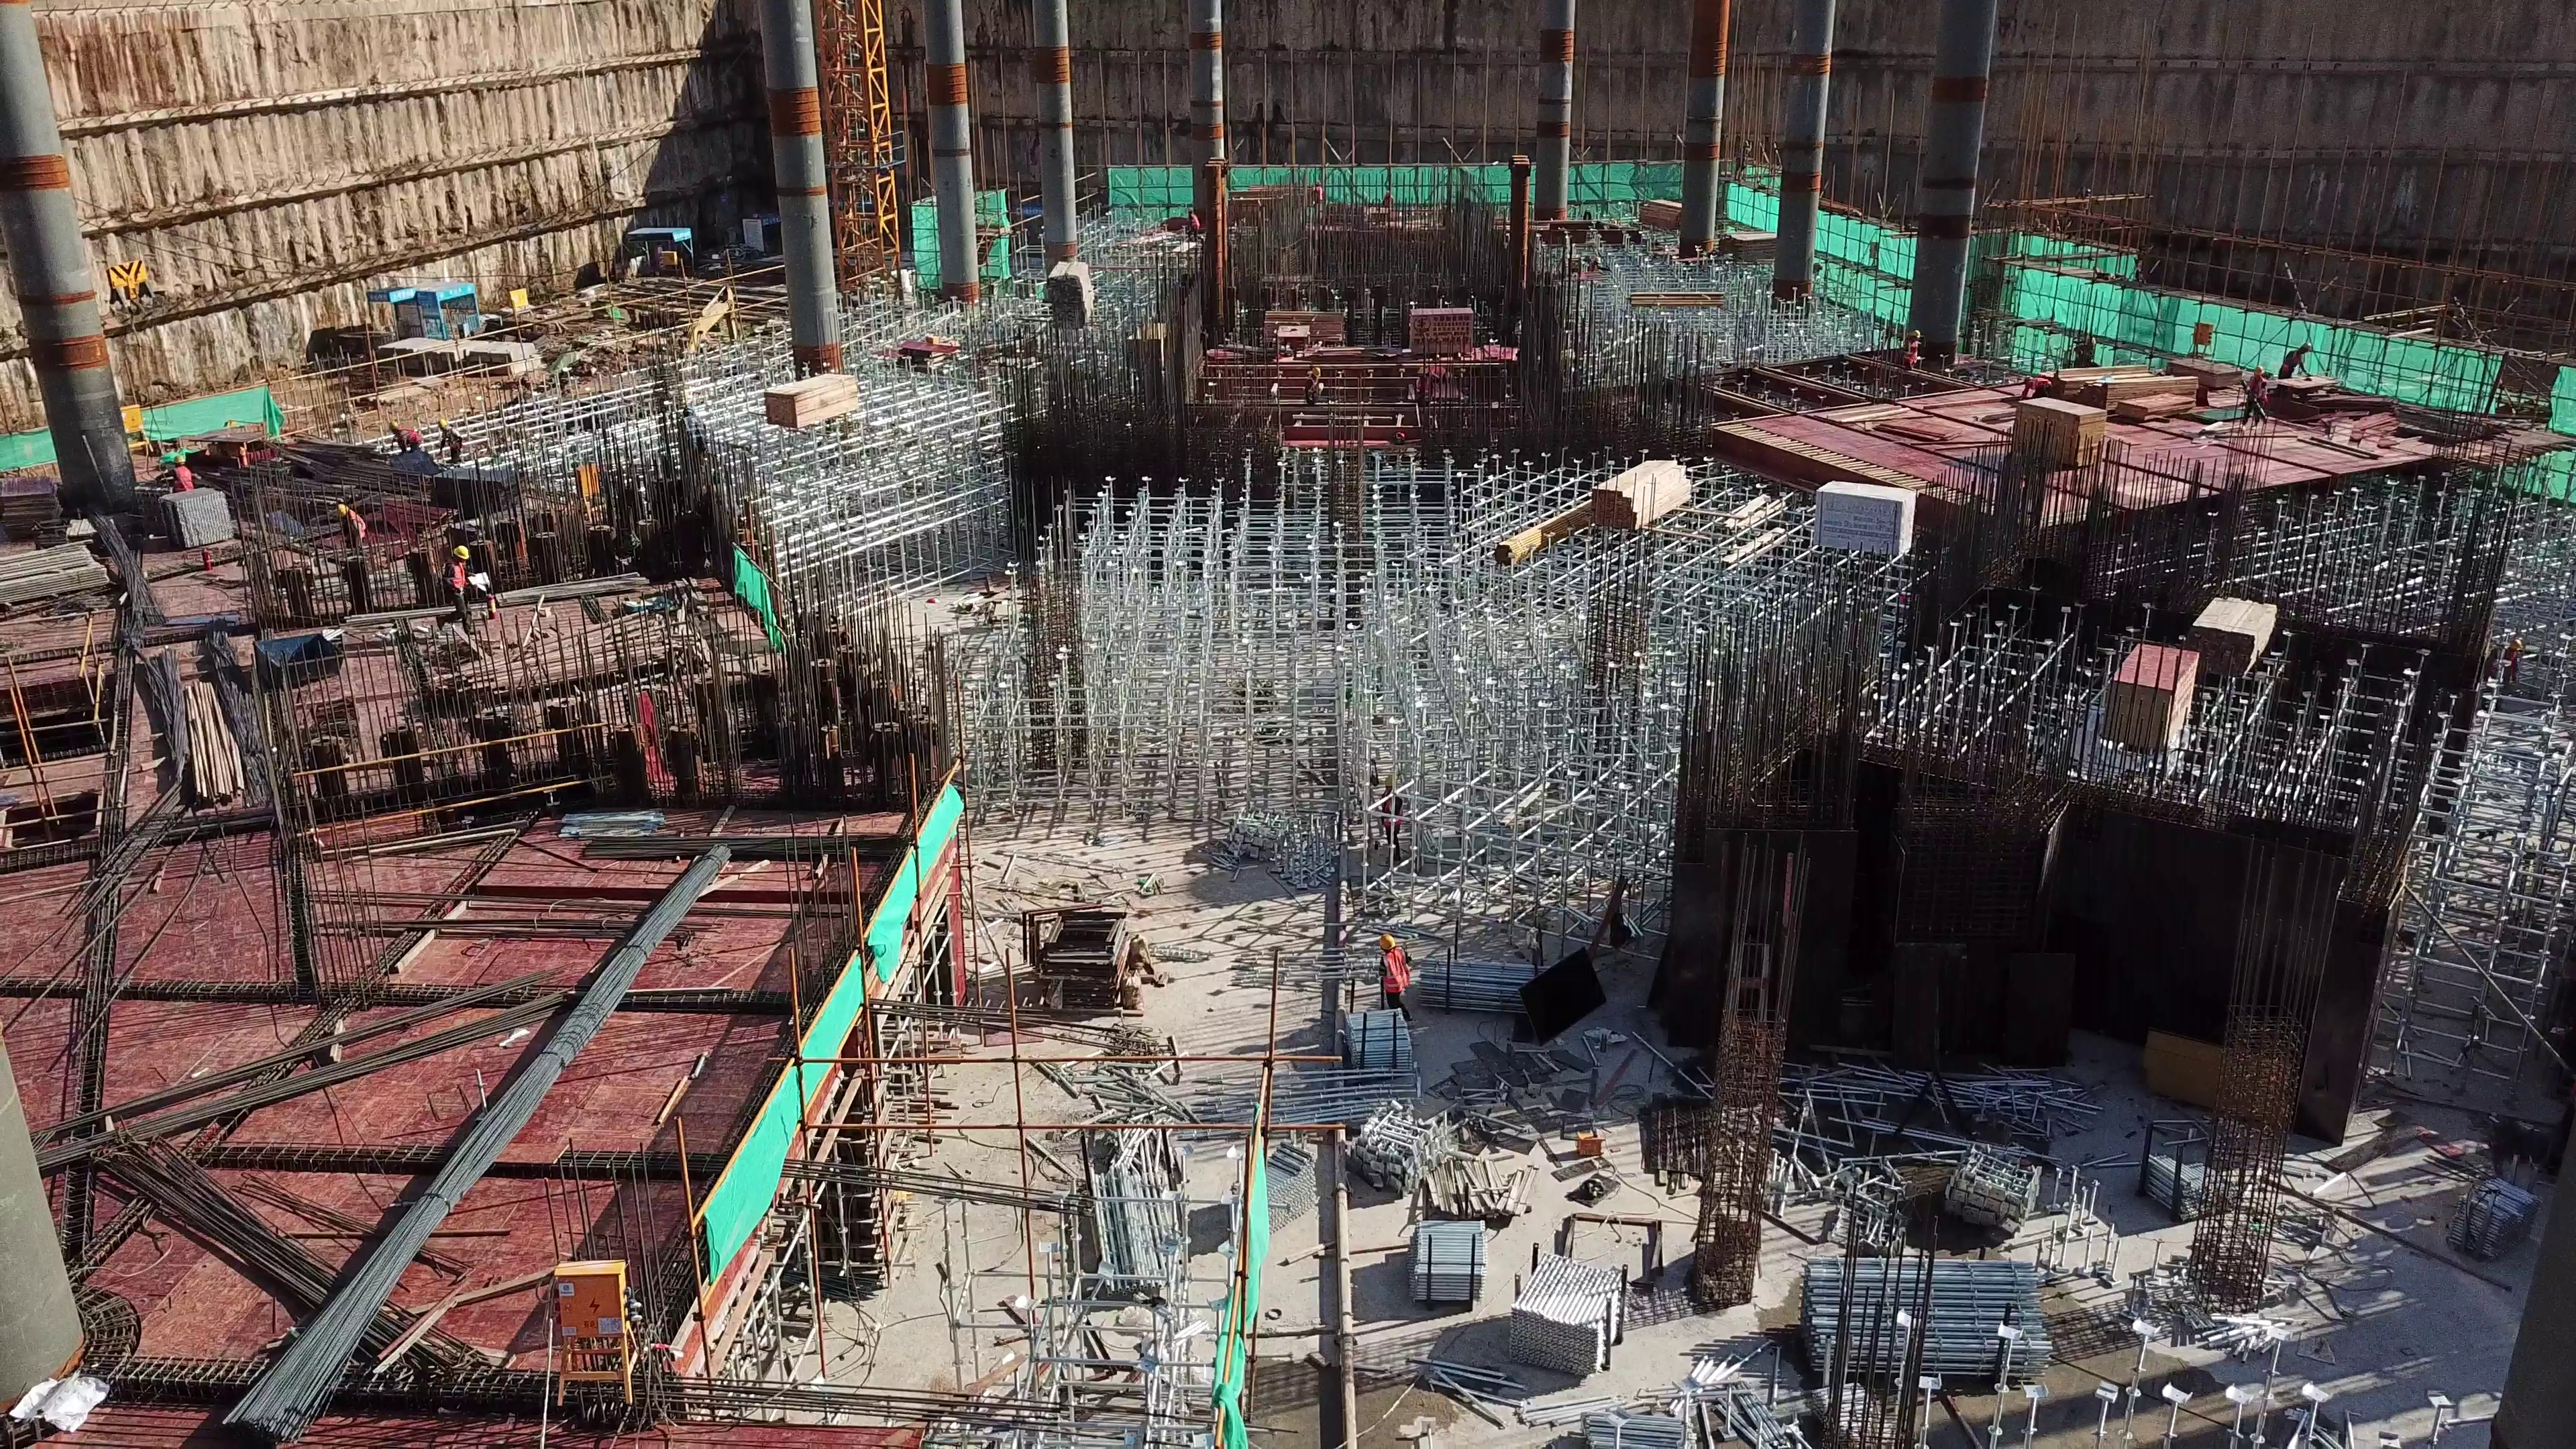board: (2106, 648, 2198, 749)
cutter: (2277, 375, 2336, 395), (1277, 325, 1310, 340)
ebox: (543, 1261, 640, 1408), (121, 400, 150, 453), (2191, 321, 2220, 353), (506, 284, 532, 317), (661, 246, 682, 268)
helmet: (1379, 932, 1398, 951), (452, 545, 472, 560), (335, 502, 351, 517), (172, 453, 187, 466), (437, 417, 449, 428), (2252, 365, 2263, 374), (1911, 329, 1923, 338), (388, 419, 400, 429), (2302, 342, 2312, 351), (1313, 366, 1322, 376), (2023, 374, 2033, 382)
person: (1361, 922, 1432, 1020), (431, 539, 491, 635), (329, 500, 375, 551), (2241, 361, 2269, 433), (382, 417, 429, 455), (433, 417, 469, 466), (2017, 371, 2057, 405), (1899, 328, 1931, 370), (166, 450, 199, 488), (2282, 338, 2314, 376), (1300, 366, 1330, 407)
rebar: (269, 836, 722, 1438), (48, 989, 578, 1166), (100, 1136, 441, 1384), (72, 547, 146, 1311)
scaffold: (1796, 1258, 2054, 1379), (1507, 1246, 1635, 1374), (1089, 1157, 1190, 1299)
vest: (1378, 953, 1411, 994), (443, 564, 468, 592), (2245, 377, 2269, 402), (2284, 349, 2302, 374), (1904, 340, 1920, 361), (2033, 375, 2054, 381)
wood: (1589, 451, 1696, 532), (2198, 589, 2284, 678), (764, 370, 870, 431), (2012, 398, 2111, 462), (2098, 365, 2207, 403), (1046, 256, 1095, 333), (1257, 307, 1354, 345)
